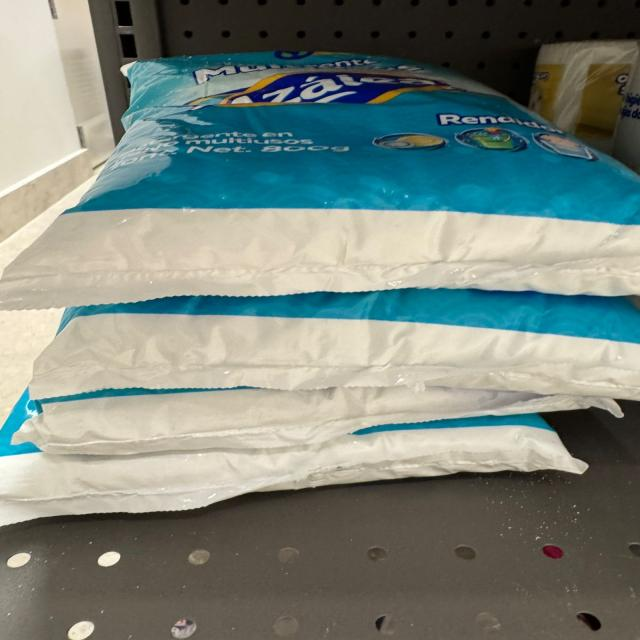DETERGENTE AZALEA MULTIUSOS 800G: (8, 51, 640, 559)
